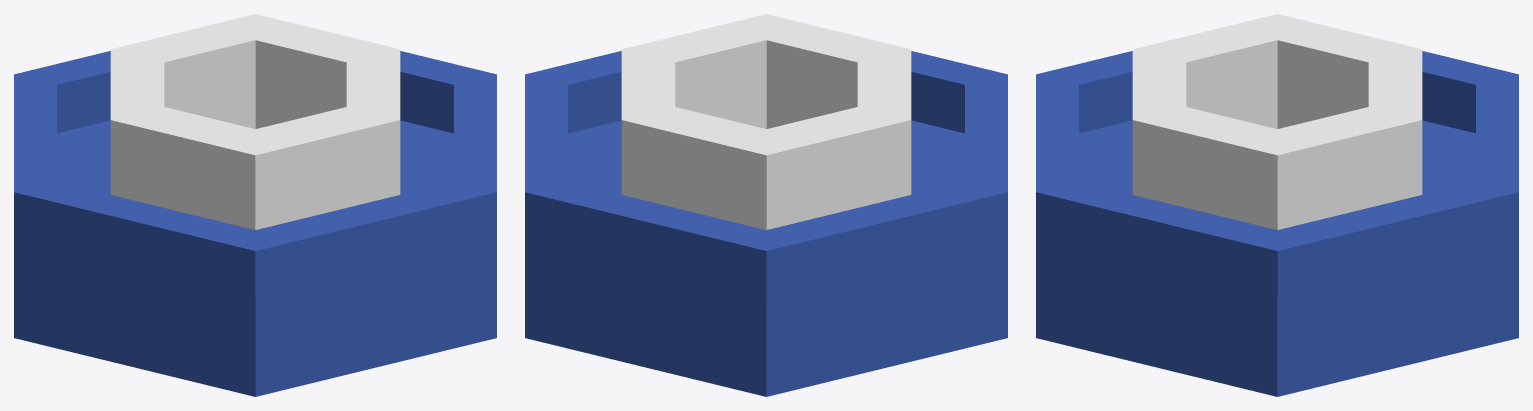
The model's file is r2c_blue_soldier.fbx.
The picture shows the model from 3 angles, left to right: view 1: azimuth 30°, elevation 25°; view 2: azimuth 150°, elevation 25°; view 3: azimuth 270°, elevation 25°; orthographic projection.
Visible parts, largest first — view 1: 개체_3, 개체_1; view 2: 개체_3, 개체_1; view 3: 개체_3, 개체_1.
Part boxes in pixels (box(x1,y1,x2,y2)): 개체_3: box(14, 51, 496, 396); 개체_1: box(110, 14, 400, 229); 개체_3: box(525, 51, 1007, 396); 개체_1: box(621, 14, 911, 229); 개체_3: box(1036, 51, 1518, 396); 개체_1: box(1132, 14, 1422, 229).
Bounding box in the file's own units: 5.2 × 2 × 4.5.
